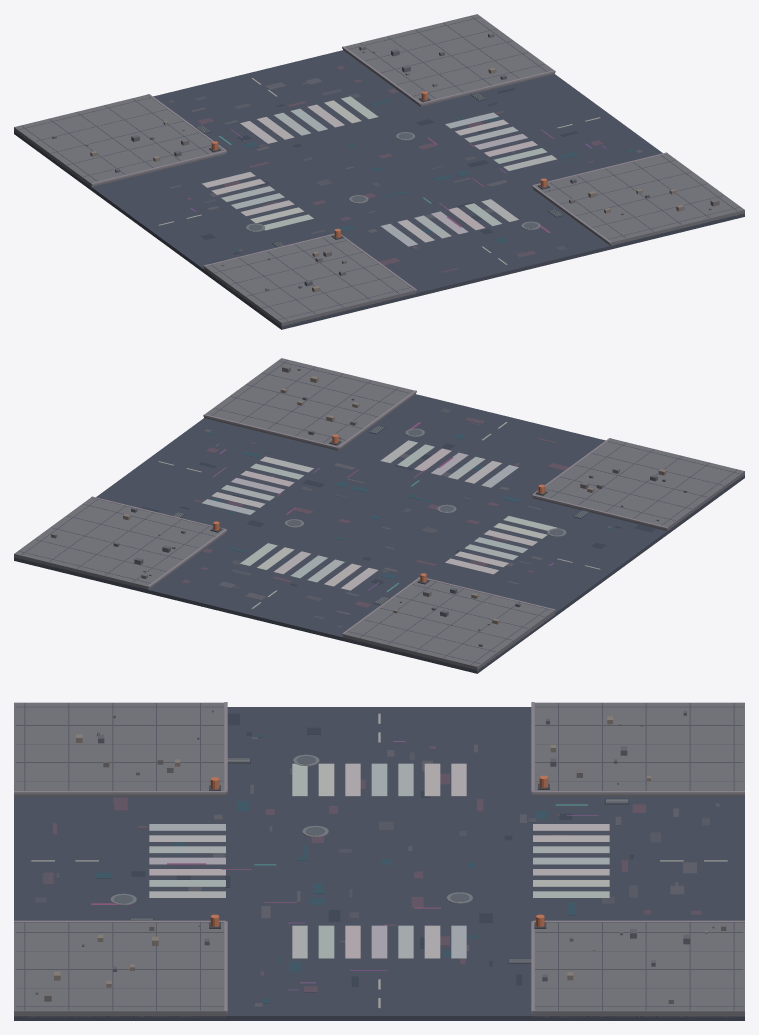
File: ReZONBI_Cyberpunk_Road_Intersection.glb
3 views of the same model, one above another, from view 1: azimuth 30°, elevation 25°; view 2: azimuth 150°, elevation 25°; view 3: azimuth 270°, elevation 25° (orthographic). The views are drawn at different scales.
Visible parts, largest first — view 1: road_asphalt_base, sidewalk_corner_-1_1, sidewalk_corner_-1_-1, sidewalk_corner_1_1, sidewalk_corner_1_-1; view 2: road_asphalt_base, sidewalk_corner_-1_-1, sidewalk_corner_1_-1, sidewalk_corner_-1_1, sidewalk_corner_1_1; view 3: road_asphalt_base, sidewalk_corner_1_-1, sidewalk_corner_1_1, sidewalk_corner_-1_-1, sidewalk_corner_-1_1, curb_-1_-1_a, curb_-1_1_a, crosswalk_N_S_-1_2, crosswalk_N_S_-1_3, crosswalk_N_S_1_2, curb_1_1_a, curb_1_-1_a (+24 smaller).
Part boxes in pixels (box(x1,y1,x2,y2)): road_asphalt_base: box(14, 50, 744, 329); sidewalk_corner_-1_1: box(204, 235, 415, 326); sidewalk_corner_-1_-1: box(14, 94, 225, 187); sidewalk_corner_1_1: box(533, 153, 744, 245); sidewalk_corner_1_-1: box(343, 14, 554, 106); road_asphalt_base: box(14, 394, 744, 673); sidewalk_corner_-1_-1: box(343, 579, 554, 670); sidewalk_corner_1_-1: box(14, 497, 225, 589); sidewalk_corner_-1_1: box(533, 438, 744, 530); sidewalk_corner_1_1: box(204, 358, 415, 450); road_asphalt_base: box(14, 707, 744, 1020); sidewalk_corner_1_-1: box(533, 922, 744, 1017); sidewalk_corner_1_1: box(14, 922, 225, 1017); sidewalk_corner_-1_-1: box(533, 702, 744, 796); sidewalk_corner_-1_1: box(14, 702, 225, 796); curb_-1_-1_a: box(533, 791, 744, 794); curb_-1_1_a: box(14, 791, 225, 794); crosswalk_N_S_-1_2: box(533, 846, 609, 853); crosswalk_N_S_-1_3: box(533, 857, 609, 864); crosswalk_N_S_1_2: box(149, 846, 225, 853); curb_1_1_a: box(14, 920, 225, 922); curb_1_-1_a: box(533, 920, 744, 922).
Size of the model in its own units: 40 by 1.18 by 40.
